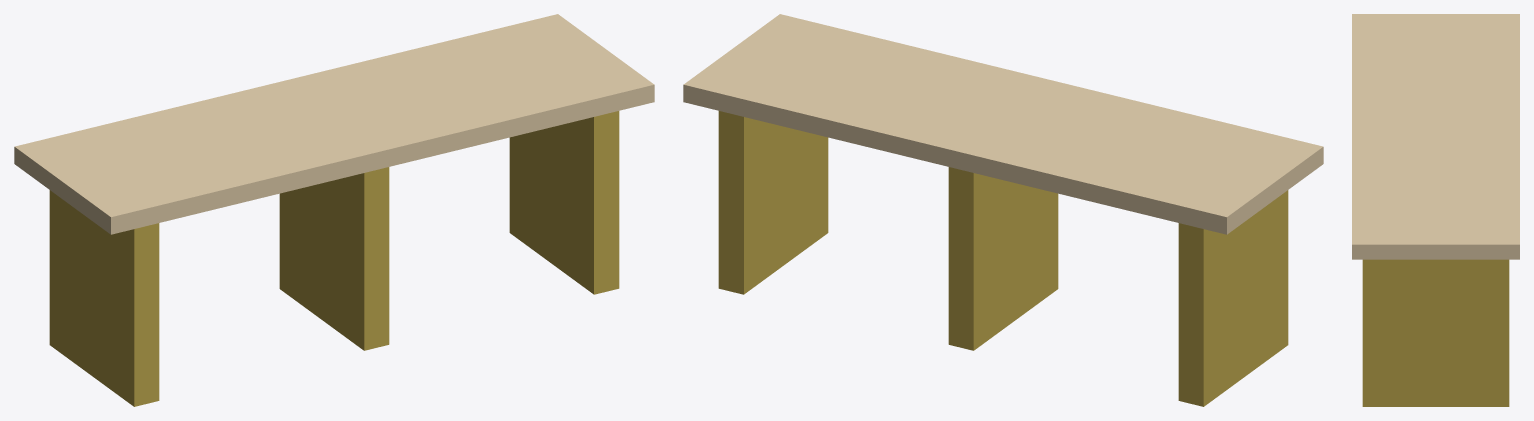
Rendered from sauna_bench.glb.
3 views of the same model, side by side, from view 1: azimuth 30°, elevation 25°; view 2: azimuth 150°, elevation 25°; view 3: azimuth 270°, elevation 25° (orthographic). The views are drawn at different scales.
Parts seen in each view (by area): view 1: seat, legs; view 2: seat, legs; view 3: seat, legs.
Boxes of the visible parts, x1,y1,x2,y2 form: seat: (14, 14, 654, 234); legs: (49, 111, 619, 406); seat: (683, 14, 1323, 234); legs: (718, 111, 1288, 406); seat: (1352, 14, 1519, 259); legs: (1362, 259, 1509, 406).
Bounding box in the file's own units: 1.3 × 0.46 × 0.4.
